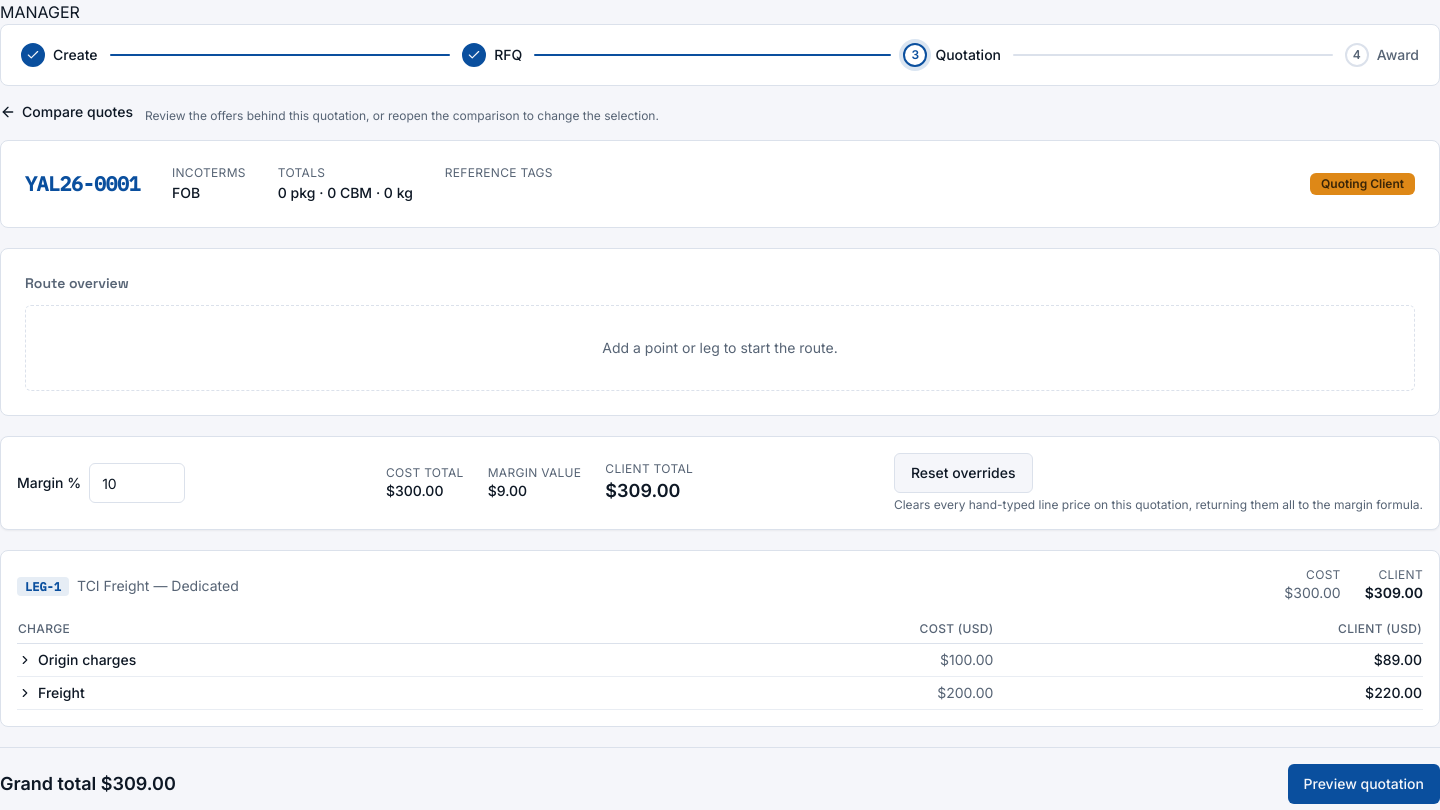
Test: QuotationPage › reset overrides releases every pinned line back to the formula
Step 1. Click the button "Origin charges" → (77, 660), box x1=18 y1=650 x2=136 y2=670
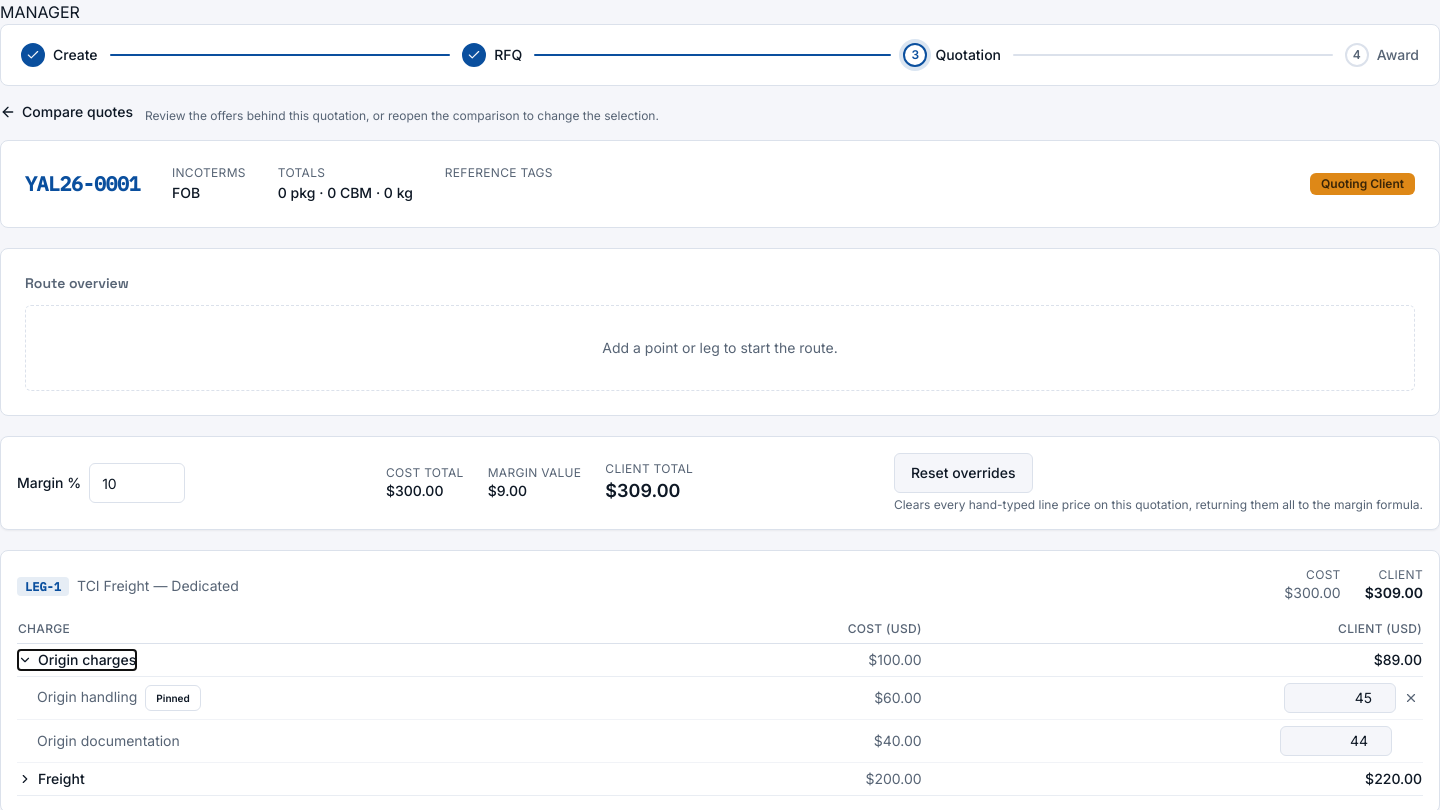
Expected: the text "Pinned" is shown, x1=145 y1=685 x2=201 y2=711
Step 2. Click the button "Reset overrides" → (963, 473), box x1=894 y1=453 x2=1032 y2=493
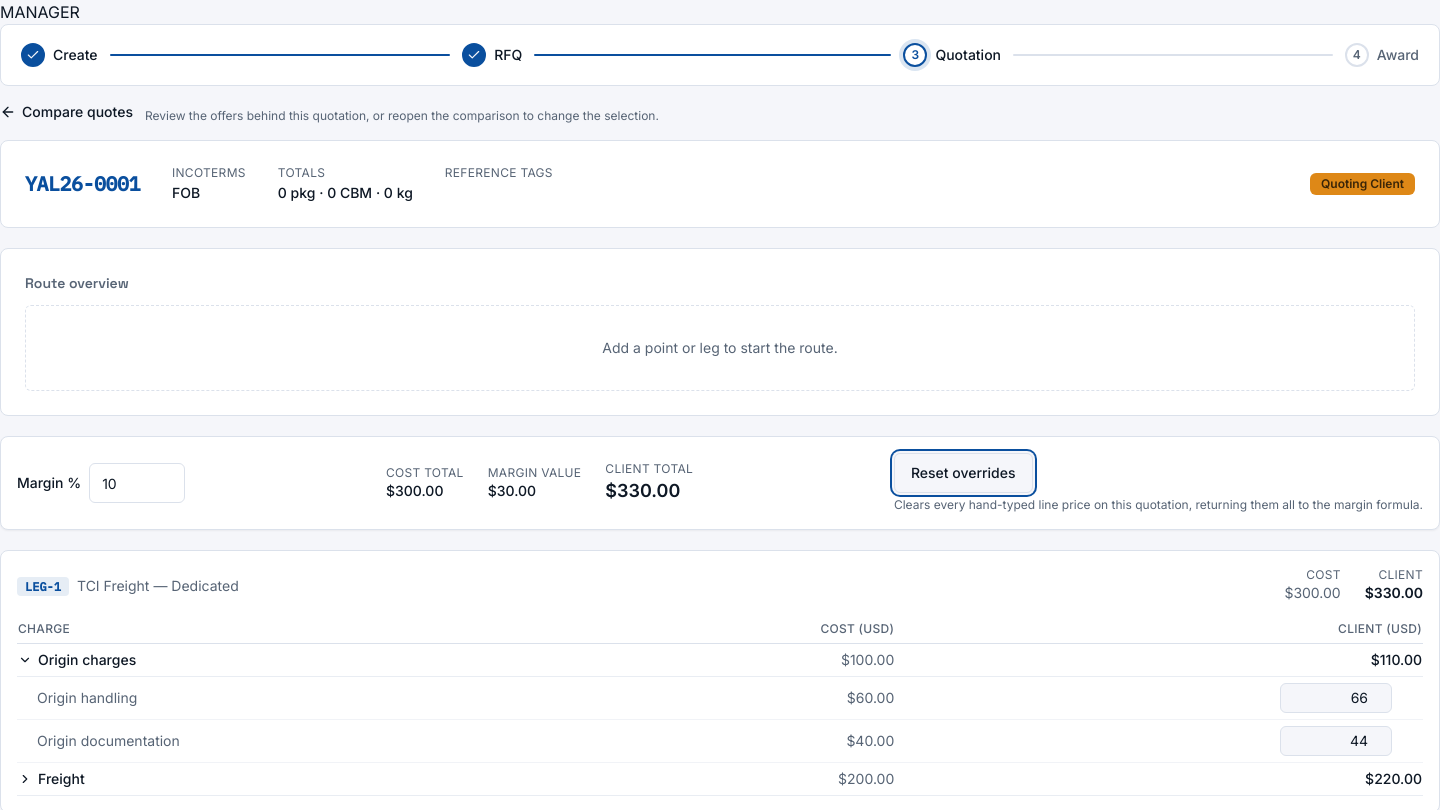
Expected: the text "Pinned" is gone
Expected: the number field showing "66" is shown, x1=1280 y1=683 x2=1392 y2=713
